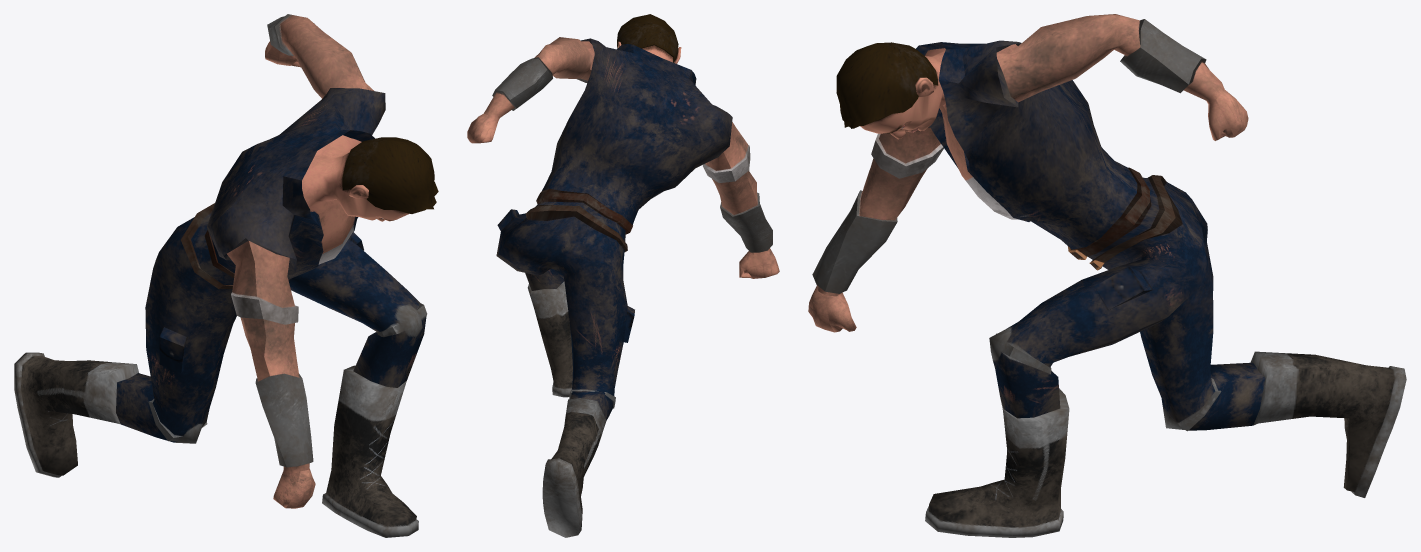
The model's file is Anim_especial_jugador.0030.obj.
3 renders of one model, left to right at view 1: azimuth 30°, elevation 25°; view 2: azimuth 150°, elevation 25°; view 3: azimuth 270°, elevation 25°, orthographic. The views are drawn at different scales.
Parts seen in each view (by area): view 1: polySurface1; view 2: polySurface1; view 3: polySurface1.
Boxes of the visible parts, left/top/right/bottom form: polySurface1: left=14, top=14, right=438, bottom=537; polySurface1: left=467, top=14, right=779, bottom=537; polySurface1: left=808, top=14, right=1406, bottom=537.
Bounding box in the file's own units: 3.5 × 7.11 × 6.98.
